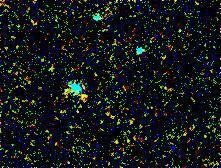star: (70, 82, 100, 112)
